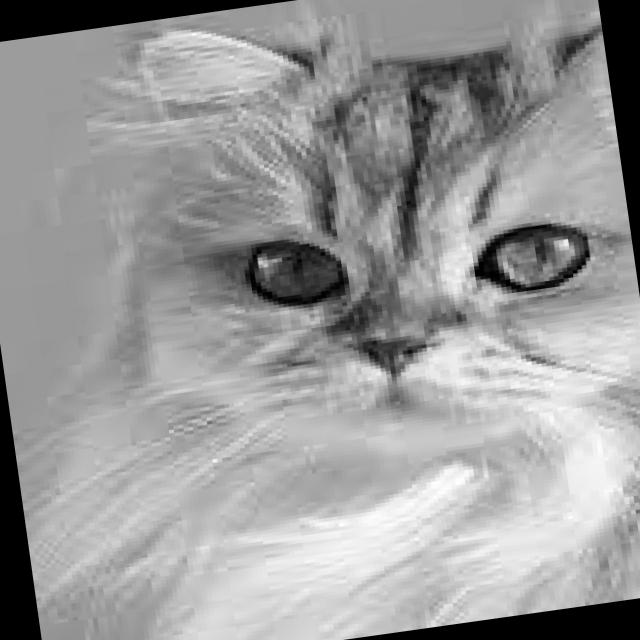british: (83, 0, 640, 549)
